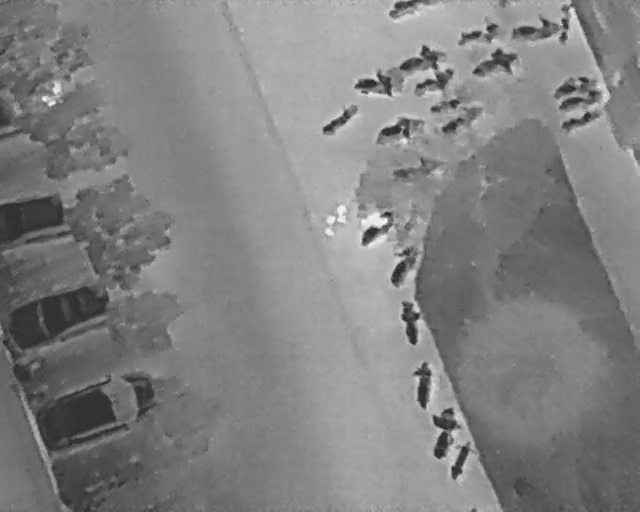Bicycle: (420, 401, 466, 463), (379, 236, 428, 293), (466, 39, 525, 86), (448, 10, 506, 57), (351, 203, 402, 254), (370, 108, 432, 148), (394, 36, 452, 78), (313, 96, 365, 141), (436, 97, 490, 140), (554, 80, 609, 118), (409, 61, 460, 100), (507, 9, 565, 43), (547, 66, 600, 103), (389, 151, 448, 184), (445, 434, 479, 483), (558, 104, 607, 137), (352, 69, 397, 100), (410, 359, 436, 412), (398, 297, 423, 348), (425, 91, 466, 119), (388, 0, 430, 20)
Car: (27, 361, 167, 457), (3, 270, 123, 356), (0, 189, 93, 252), (0, 79, 73, 140)
Person: (323, 204, 348, 238)
